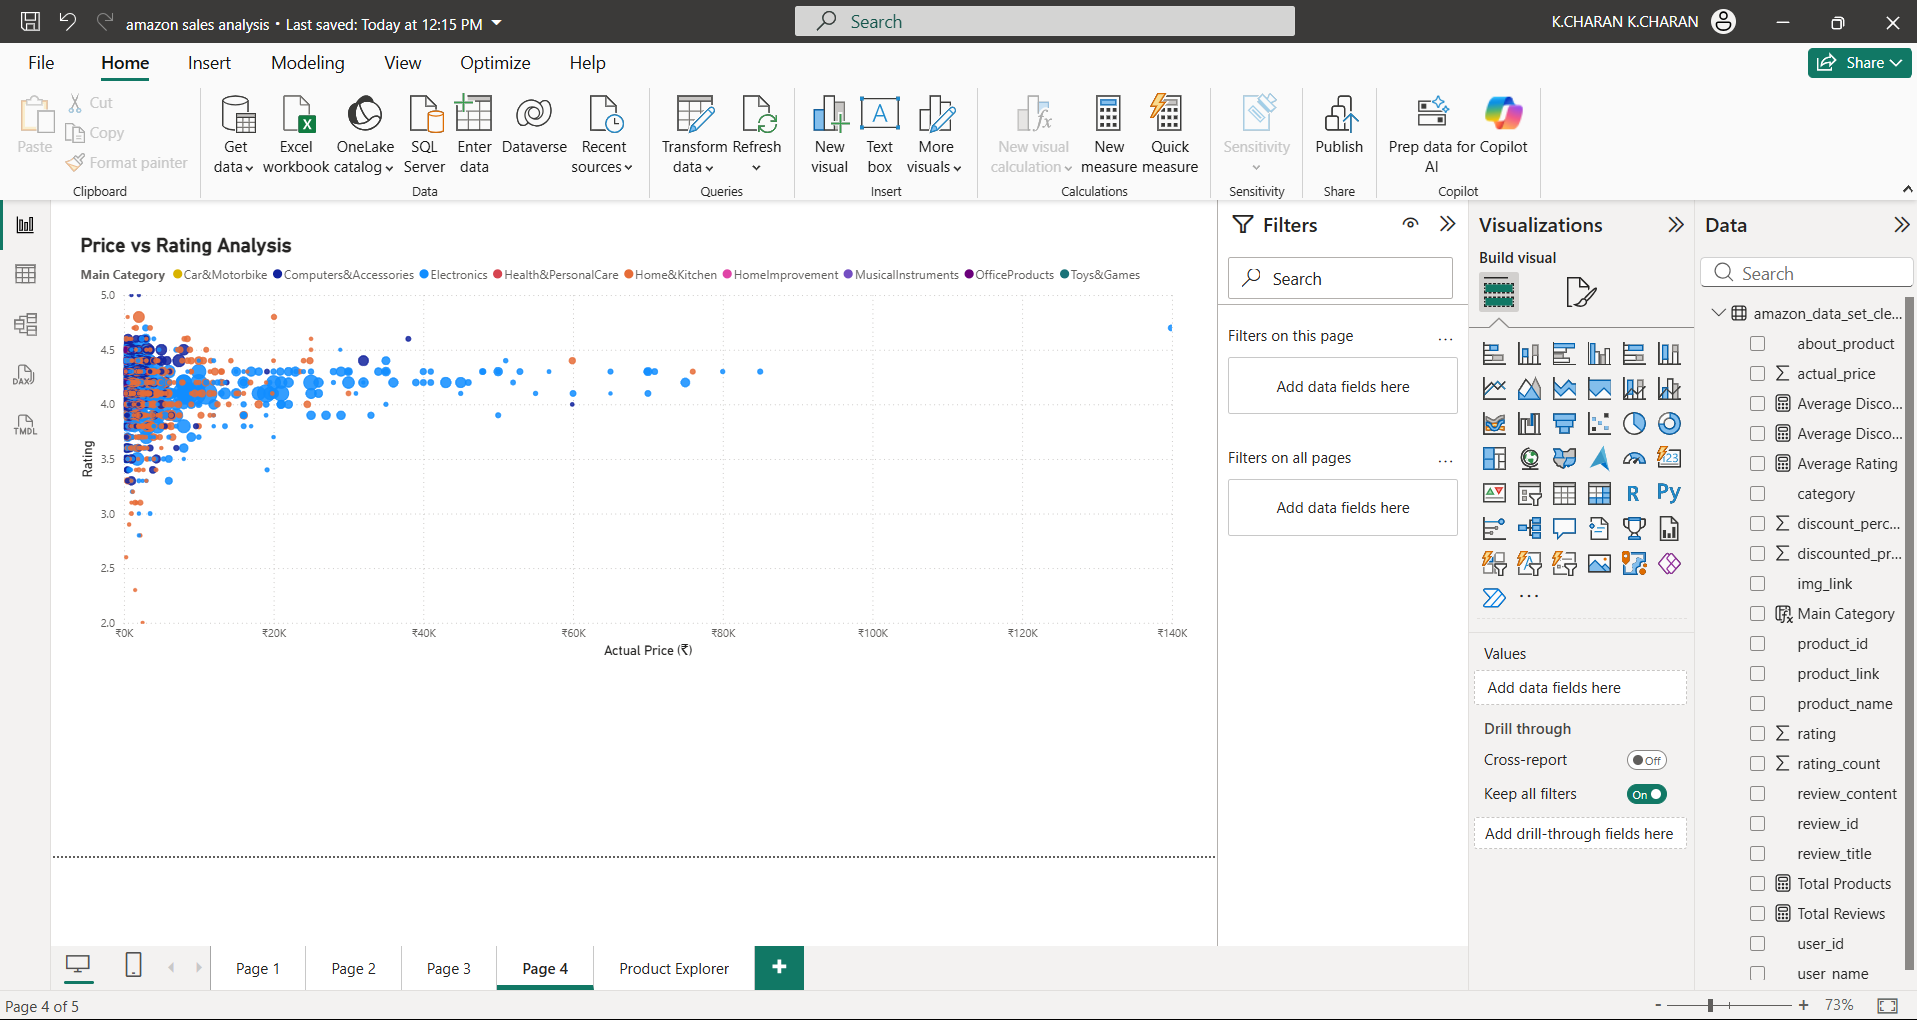

What the dashboard file says about the page in this screenshot:
{"tool":"powerbi","page":{"name":"Page 4","canvas":[1280,720],"ordinal":3},"visuals":[{"type":"scatterChart","title":"Price vs Rating Analysis","fields":{"X":["amazon_data_set_cleaned.actual_price"],"Y":["amazon_data_set_cleaned.rating"],"Size":["Sum(amazon_data_set_cleaned.rating_count)"],"Series":["amazon_data_set_cleaned.Main Category"]},"box":[28.1,36.7,1225.3,470.8],"z":0}]}

Visuals, with their boxes on the page's 1280x720 design canvas (x1, y1, x2, y2). These are canvas units, not pixel positions in the 1917x1020 screenshot, which may show the page scaled, cropped or inside an application window:
"Price vs Rating Analysis" scatterChart: <box>28,37,1253,508</box>
